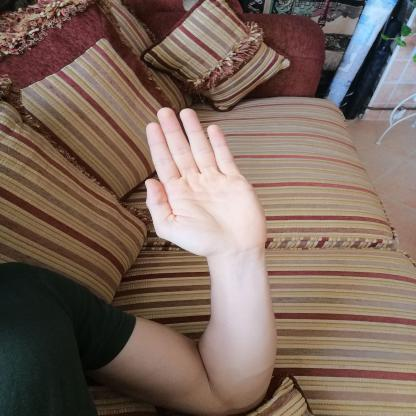SEEN: (132, 99, 276, 262)
